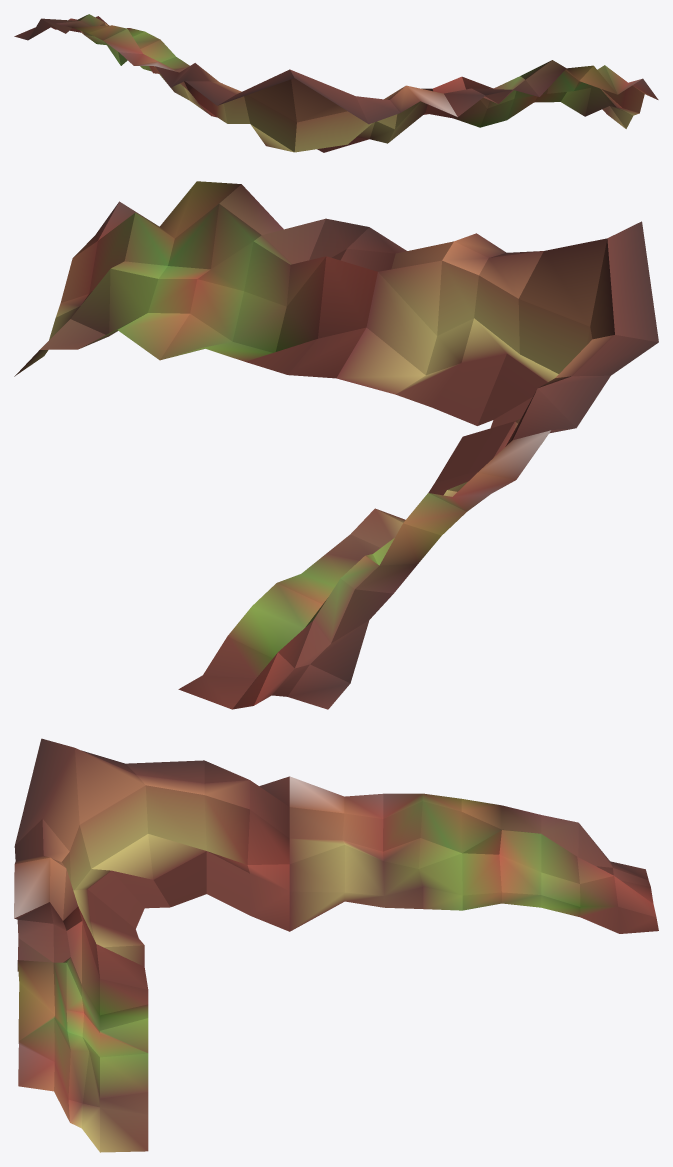
The model's file is terrainSide.fbx.
3 renders of one model, top to bottom at view 1: azimuth 30°, elevation 25°; view 2: azimuth 150°, elevation 25°; view 3: azimuth 270°, elevation 25°, orthographic. The views are drawn at different scales.
Parts seen in each view (by area): view 1: Plane.000; view 2: Plane.000; view 3: Plane.000.
Part boxes in pixels (x1,y1,x2,y2): Plane.000: (14, 14, 658, 152); Plane.000: (14, 181, 658, 709); Plane.000: (14, 738, 658, 1152).
Size of the model in its own units: 1587 by 585 by 1749.
